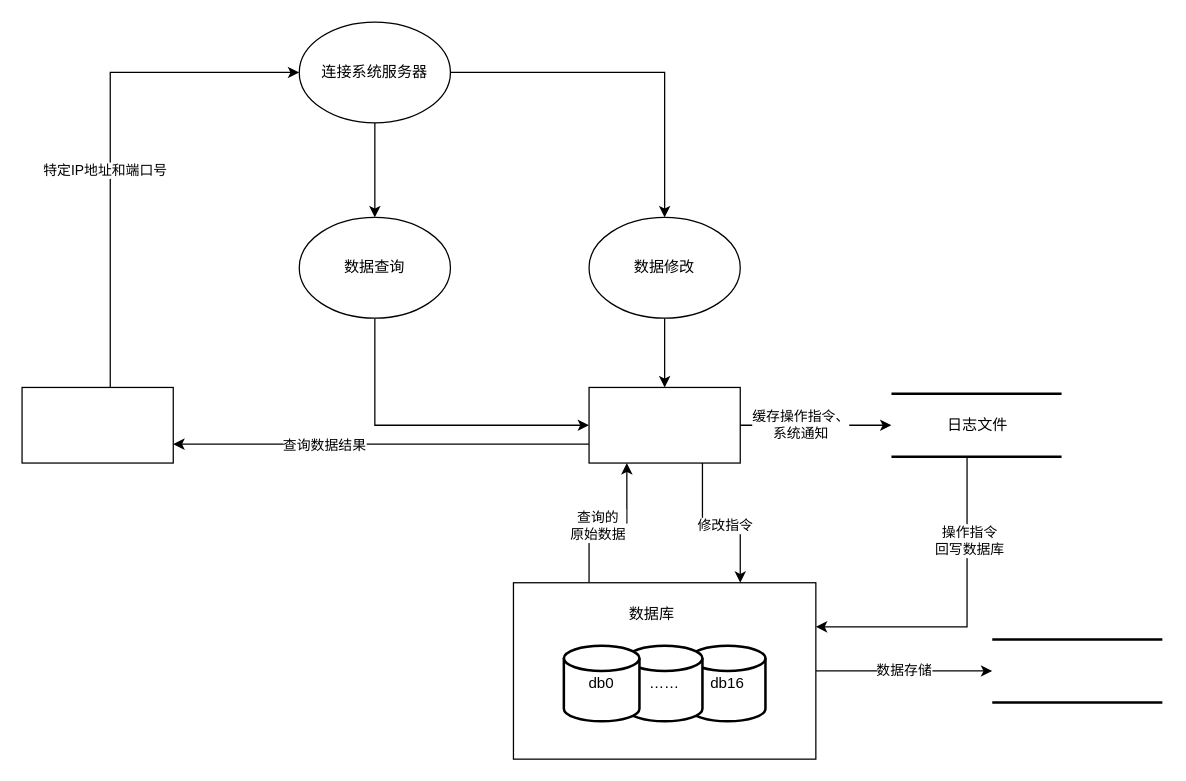
Some shapes in this 1186 by 781 pixel diagram are drawn without their labels. Here are the shapes that lost their labels. From the top down, the box of each, then its label:
(21, 386, 173, 463): 客户端
(588, 386, 740, 463): 命令处理中心
(990, 638, 1163, 703): 内存
